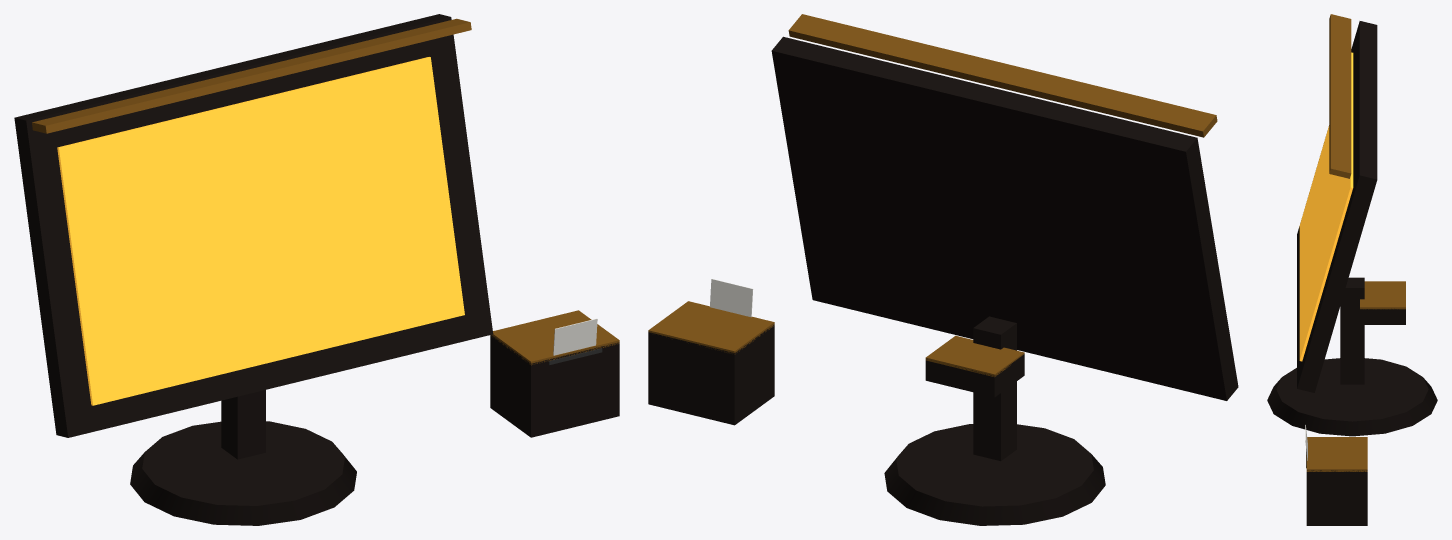
File: pos-terminal.glb
3 views of the same model, side by side, from view 1: azimuth 30°, elevation 25°; view 2: azimuth 150°, elevation 25°; view 3: azimuth 270°, elevation 25° (orthographic). The views are drawn at different scales.
Parts seen in each view (by area): view 1: pos-terminal; view 2: pos-terminal; view 3: pos-terminal.
Boxes of the visible parts, x1,y1,x2,y2 form: pos-terminal: (14, 14, 619, 525); pos-terminal: (648, 14, 1238, 525); pos-terminal: (1267, 14, 1437, 525).
Size of the model in its own units: 1.58 by 1.12 by 0.56.
